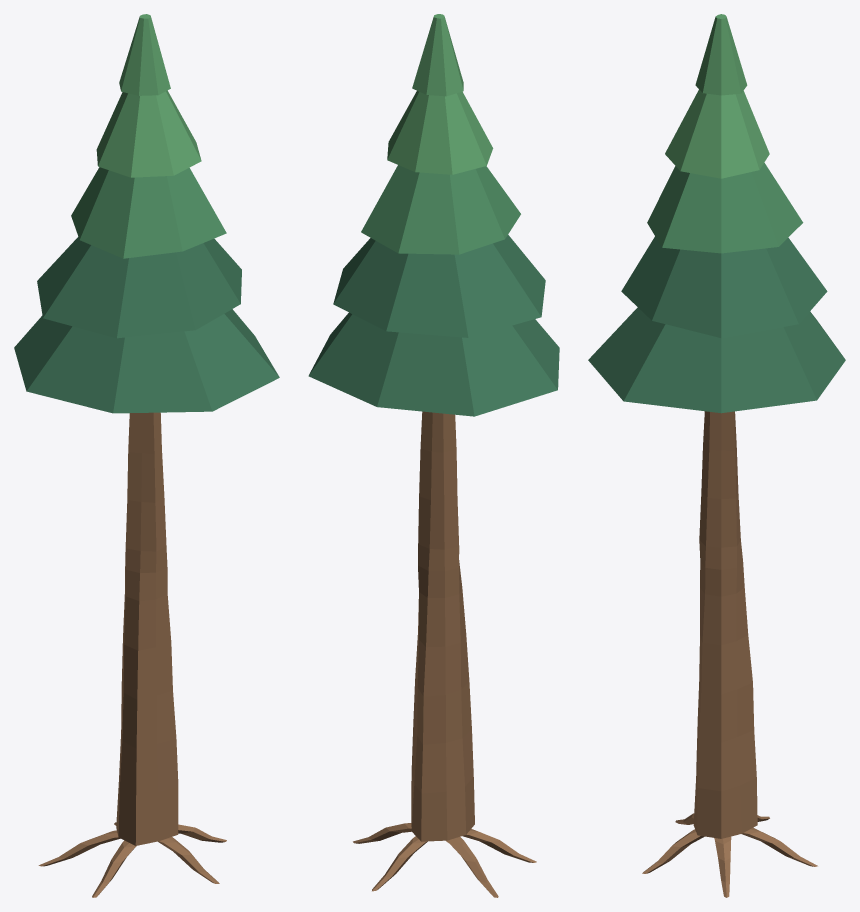
Rendered from tree_pine_medium.glb.
3 renders of one model, left to right at view 1: azimuth 30°, elevation 25°; view 2: azimuth 150°, elevation 25°; view 3: azimuth 270°, elevation 25°, orthographic.
Visible parts, largest first — view 1: Tree_Pine_Medium_Top, Tree_Pine_Medium_Base; view 2: Tree_Pine_Medium_Top, Tree_Pine_Medium_Base; view 3: Tree_Pine_Medium_Top, Tree_Pine_Medium_Base.
Part boxes in pixels (x1=…): Tree_Pine_Medium_Top: x1=14, y1=14, x2=279, y2=572; Tree_Pine_Medium_Base: x1=38, y1=566, x2=226, y2=897; Tree_Pine_Medium_Top: x1=308, y1=14, x2=559, y2=571; Tree_Pine_Medium_Base: x1=353, y1=563, x2=536, y2=897; Tree_Pine_Medium_Top: x1=588, y1=14, x2=845, y2=569; Tree_Pine_Medium_Base: x1=642, y1=561, x2=817, y2=897.
Bounding box in the file's own units: 4.49 × 15.9 × 4.42.
